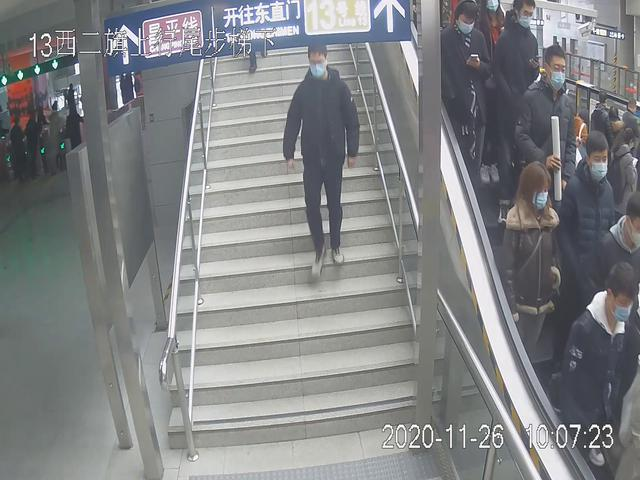person: (279, 37, 365, 282), (555, 260, 640, 480), (494, 161, 565, 385), (556, 122, 621, 321), (436, 1, 493, 217), (517, 45, 582, 227), (487, 1, 543, 184)
